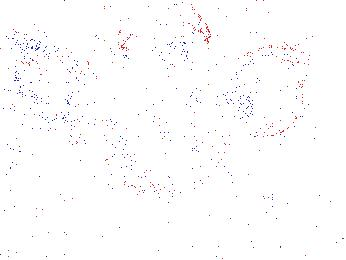moon jellyfish: (103, 118, 229, 197), (1, 46, 89, 157), (221, 46, 318, 115), (116, 1, 211, 56)
